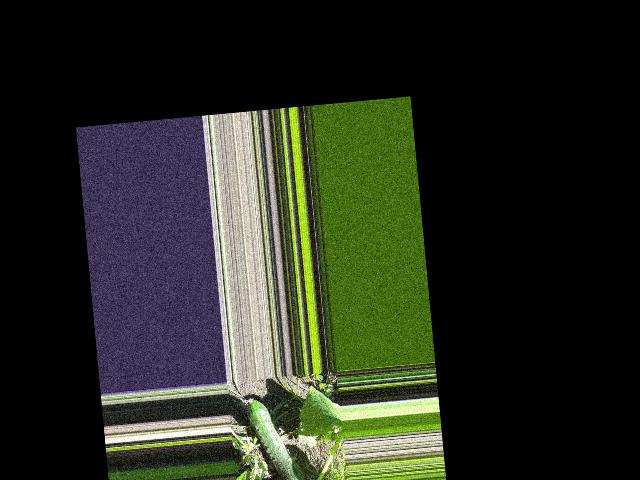cucumber: (245, 394, 304, 480)
